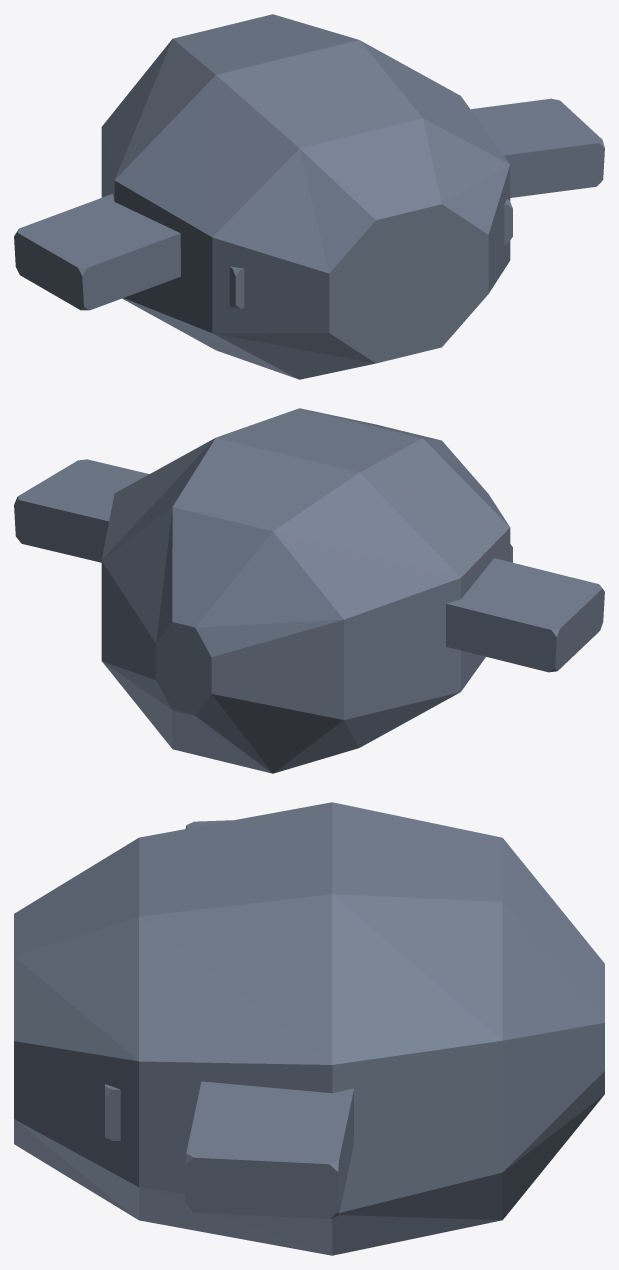
Rendered from aerial_drone_core.glb.
The picture shows the model from 3 angles, top to bottom: view 1: azimuth 30°, elevation 25°; view 2: azimuth 150°, elevation 25°; view 3: azimuth 270°, elevation 25°; orthographic projection. The views are drawn at different scales.
Visible parts, largest first — view 1: Ceramic_titanium; view 2: Ceramic_titanium; view 3: Ceramic_titanium.
Part boxes in pixels (left/top/right/bottom): Ceramic_titanium: left=14, top=14, right=604, bottom=379; Ceramic_titanium: left=14, top=408, right=604, bottom=773; Ceramic_titanium: left=14, top=802, right=604, bottom=1255.
Bounding box in the file's own units: 1.45 × 0.7021 × 1.04.
Materials: 1 (1 with a texture image).
